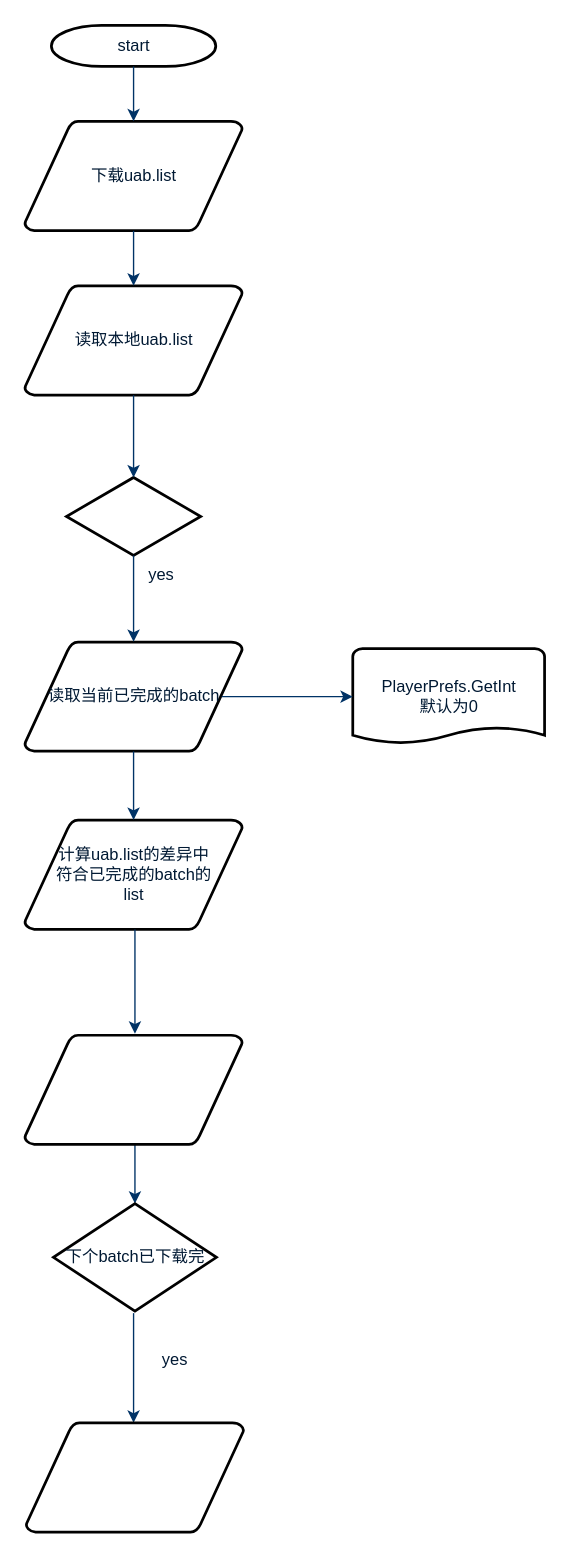
Some shapes in this 570 by 1556 pixel diagram are drawn without their labels. Here are the shapes that lost their labels. From the top down, the box of each, then its label:
(64, 475, 201, 556): 是否有差异
(23, 1033, 243, 1145): 计算uab.list的差异中 在下个batch的下载量
(24, 1421, 245, 1533): 合并下个批次的资源进 uab.list及uab资源
